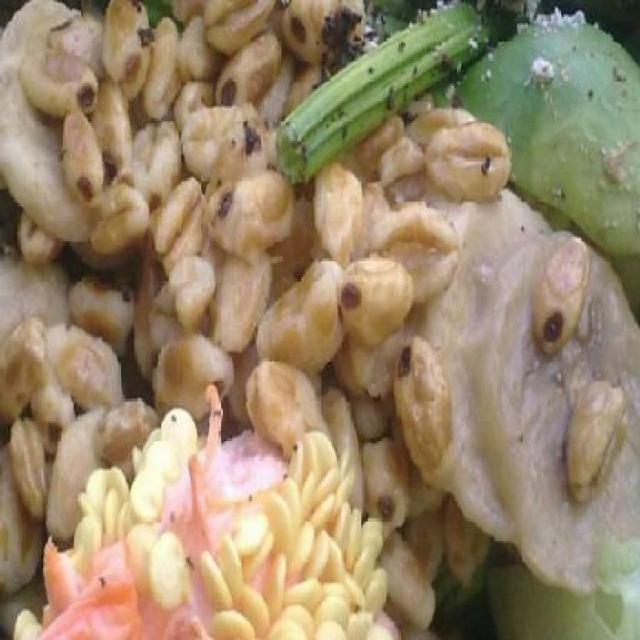garbage: (192, 5, 426, 638), (429, 2, 638, 639), (1, 2, 186, 639)
